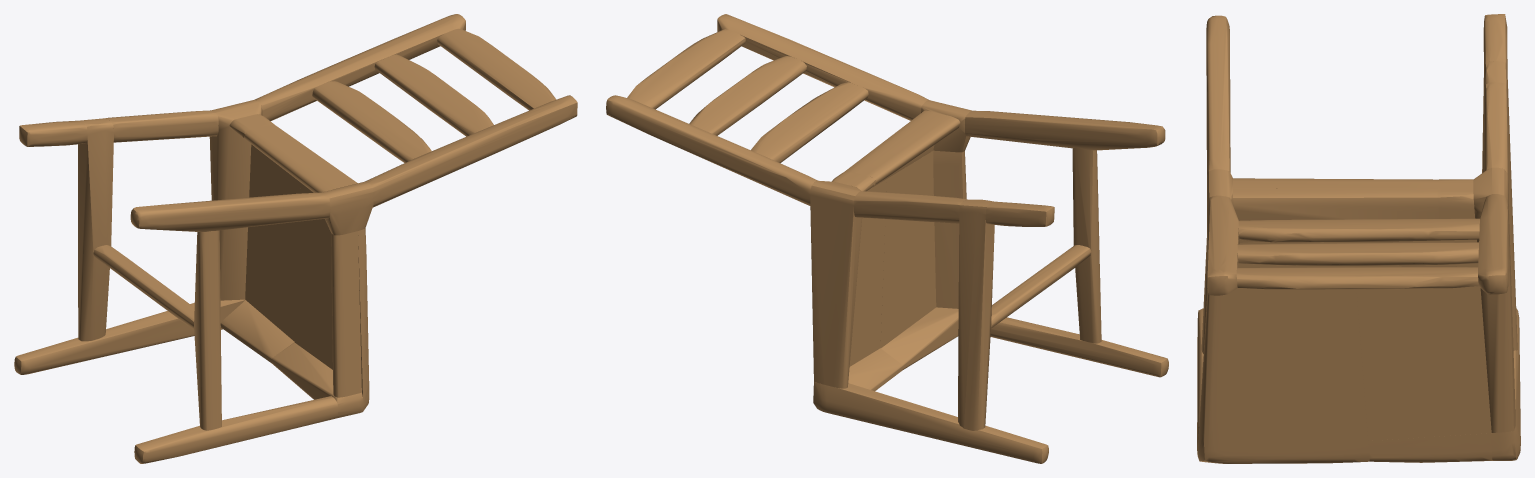
The model's file is g1_03_chair_overhead_props.glb.
3 renders of one model, left to right at view 1: azimuth 30°, elevation 25°; view 2: azimuth 150°, elevation 25°; view 3: azimuth 270°, elevation 25°, orthographic. The views are drawn at different scales.
Parts seen in each view (by area): view 1: o00_p02, o00_p09, o00_p00, o00_p03, o00_p21, o00_p10, o00_p12, o00_p01, o00_p04, o00_p08, o00_p06, o00_p15 (+10 smaller); view 2: o00_p10, o00_p02, o00_p00, o00_p08, o00_p04, o00_p21, o00_p03, o00_p12, o00_p01, o00_p09, o00_p15, o00_p19 (+10 smaller); view 3: o00_p00, o00_p09, o00_p16, o00_p15, o00_p19, o00_p14, o00_p10, o00_p21, o00_p07, o00_p03, o00_p04, o00_p17 (+8 smaller).
Part boxes in pixels (left/top/right/bottom): o00_p02: left=78, top=118, right=113, bottom=341; o00_p09: left=245, top=144, right=300, bottom=341; o00_p00: left=294, top=183, right=369, bottom=411; o00_p03: left=365, top=95, right=577, bottom=207; o00_p21: left=130, top=192, right=330, bottom=231; o00_p10: left=209, top=99, right=262, bottom=300; o00_p12: left=194, top=230, right=221, bottom=430; o00_p01: left=134, top=396, right=337, bottom=463; o00_p04: left=255, top=14, right=465, bottom=121; o00_p08: left=14, top=299, right=245, bottom=374; o00_p06: left=331, top=231, right=361, bottom=397; o00_p15: left=312, top=81, right=431, bottom=162; o00_p10: left=810, top=180, right=862, bottom=388; o00_p02: left=958, top=199, right=994, bottom=430; o00_p00: left=880, top=150, right=936, bottom=347; o00_p08: left=813, top=381, right=1048, bottom=463; o00_p04: left=606, top=95, right=817, bottom=205; o00_p21: left=965, top=110, right=1165, bottom=150; o00_p03: left=717, top=14, right=929, bottom=120; o00_p12: left=1072, top=147, right=1101, bottom=343; o00_p01: left=990, top=317, right=1168, bottom=377; o00_p09: left=849, top=179, right=886, bottom=366; o00_p15: left=751, top=82, right=868, bottom=163; o00_p19: left=689, top=56, right=806, bottom=135; o00_p00: left=1198, top=241, right=1369, bottom=463; o00_p09: left=1353, top=239, right=1491, bottom=440; o00_p16: left=1233, top=188, right=1439, bottom=242; o00_p15: left=1238, top=218, right=1479, bottom=242; o00_p19: left=1237, top=242, right=1478, bottom=265; o00_p14: left=1236, top=266, right=1478, bottom=289; o00_p10: left=1473, top=167, right=1515, bottom=432; o00_p21: left=1206, top=15, right=1230, bottom=176; o00_p07: left=1368, top=433, right=1492, bottom=462; o00_p03: left=1207, top=195, right=1239, bottom=295; o00_p04: left=1478, top=194, right=1508, bottom=294; o00_p17: left=1233, top=178, right=1437, bottom=188.
Size of the model in its own units: 0.8891 by 0.4944 by 0.4513.
